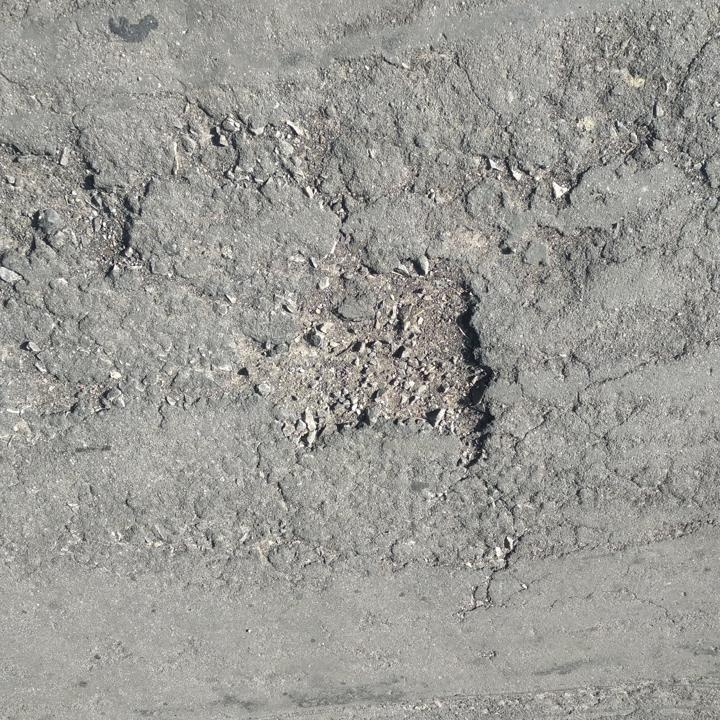pothole: (262, 255, 508, 472), (49, 147, 140, 275)
